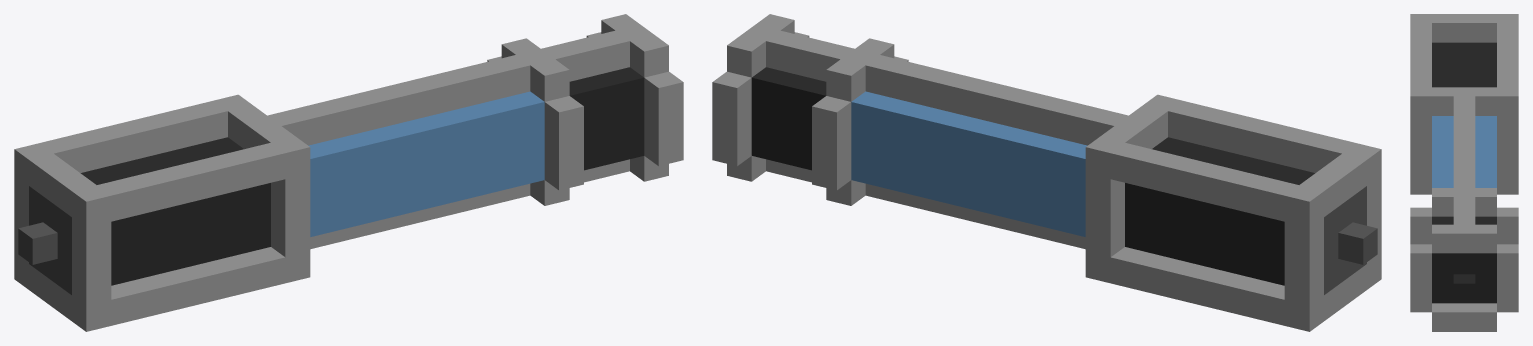
File: WeaponBarrel#2.obj
3 renders of one model, left to right at view 1: azimuth 30°, elevation 25°; view 2: azimuth 150°, elevation 25°; view 3: azimuth 270°, elevation 25°, orthographic. The views are drawn at different scales.
Size of the model in its own units: 2.5 by 0.5 by 0.5.
1 material, 1 textured.
